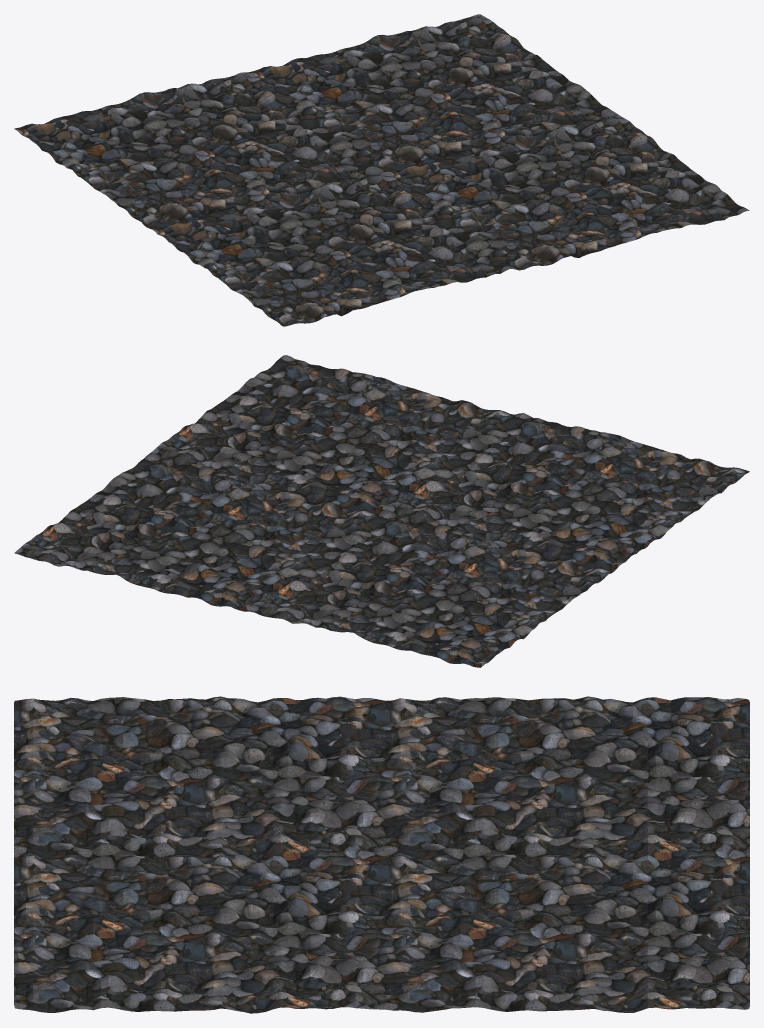
File: tank-2-100.fbx
3 renders of one model, top to bottom at view 1: azimuth 30°, elevation 25°; view 2: azimuth 150°, elevation 25°; view 3: azimuth 270°, elevation 25°, orthographic. The views are drawn at different scales.
Parts seen in each view (by area): view 1: Grid; view 2: Grid; view 3: Grid.
Boxes of the visible parts, <box> form: Grid: <box>14,14,749,326</box>; Grid: <box>14,355,749,667</box>; Grid: <box>14,696,749,1013</box>.
Size of the model in its own units: 1587 by 45.38 by 1587.
